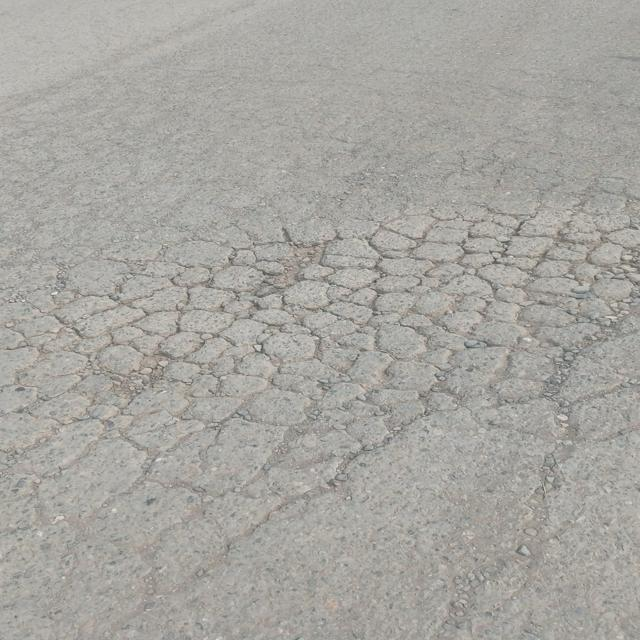Retak Buaya: (0, 212, 640, 488)
